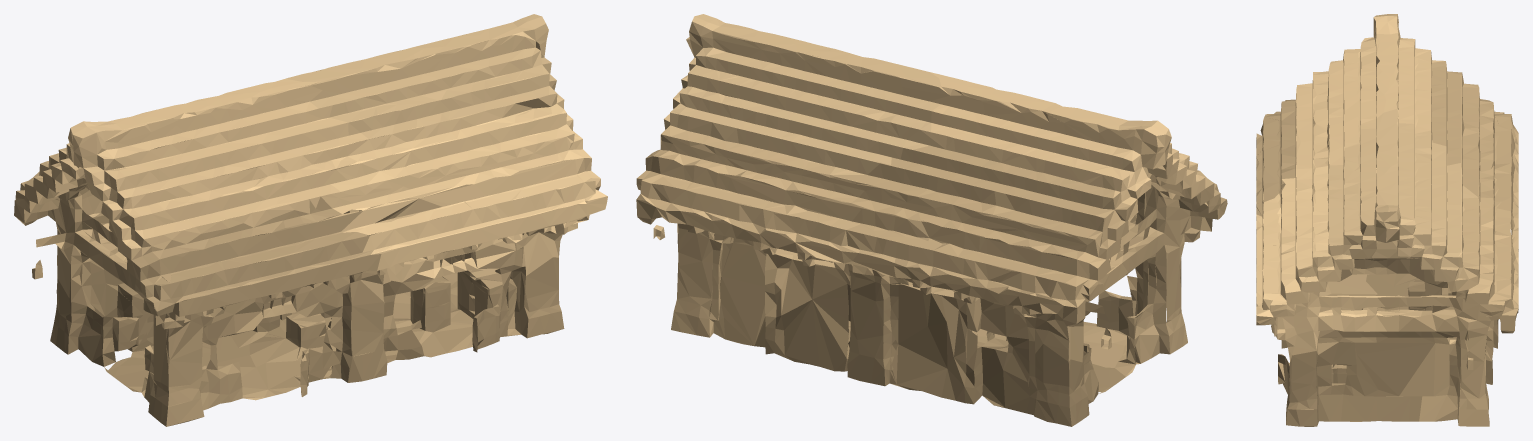
File: stable.glb
The picture shows the model from 3 angles, left to right: view 1: azimuth 30°, elevation 25°; view 2: azimuth 150°, elevation 25°; view 3: azimuth 270°, elevation 25°; orthographic projection. The views are drawn at different scales.
Parts seen in each view (by area): view 1: part_0, part_6, part_5, part_2, part_4, part_7, part_3; view 2: part_3, part_1, part_4, part_7, part_6, part_5; view 3: part_4, part_1, part_0, part_6, part_2, part_3, part_5, part_7.
Part boxes in pixels (box(x1,y1,x2,y2)): part_0: box(318, 94, 607, 284); part_6: box(55, 78, 368, 260); part_5: box(114, 196, 383, 426); part_2: box(205, 252, 564, 394); part_4: box(286, 14, 563, 138); part_7: box(50, 269, 297, 389); part_3: box(14, 147, 127, 297); part_3: box(831, 146, 1137, 362); part_1: box(636, 125, 874, 345); part_4: box(664, 14, 949, 174); part_7: box(729, 272, 1130, 426); part_6: box(921, 72, 1205, 253); part_5: box(1083, 170, 1227, 376); part_4: box(1328, 108, 1478, 281); part_1: box(1376, 185, 1518, 426); part_0: box(1256, 163, 1399, 361); part_6: box(1295, 14, 1443, 170); part_2: box(1278, 258, 1434, 426); part_3: box(1431, 61, 1518, 218); part_5: box(1256, 99, 1377, 296); part_7: box(1354, 258, 1498, 384).
Size of the model in its own units: 1.9 by 1.02 by 1.04.
